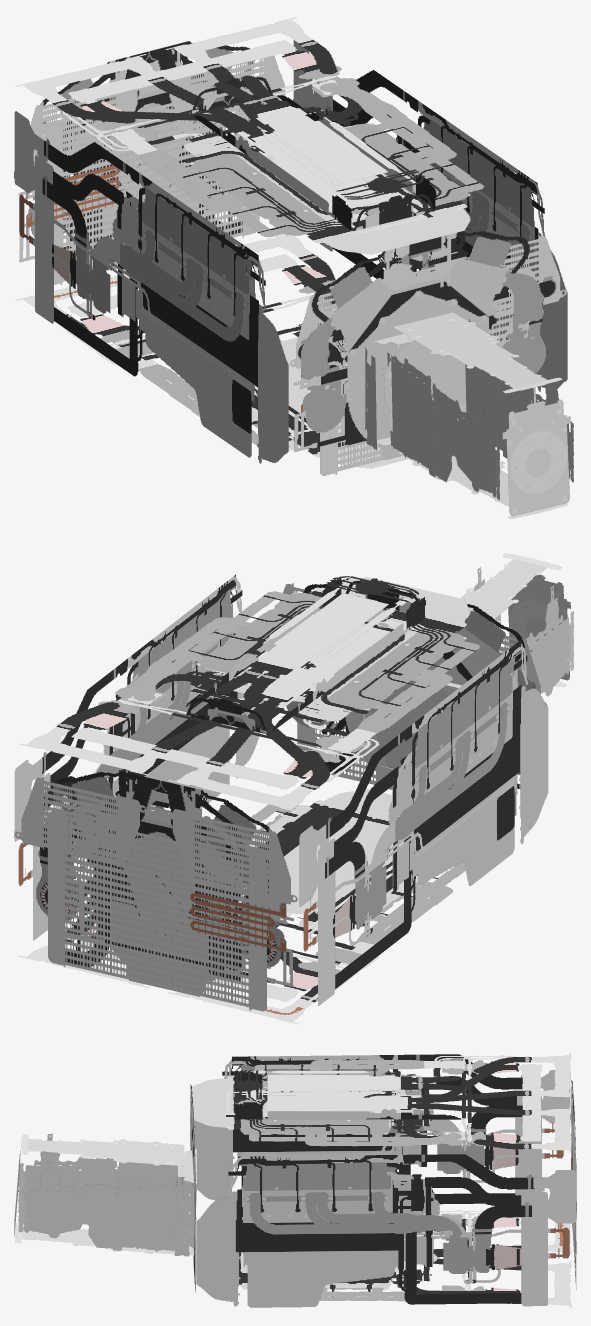
Rendered from v8-engine-1024.glb.
3 views of the same model, one above another, from view 1: azimuth 30°, elevation 25°; view 2: azimuth 150°, elevation 25°; view 3: azimuth 270°, elevation 25° (orthographic). The views are drawn at different scales.
Parts seen in each view (by area): view 1: box_impostor; view 2: box_impostor; view 3: box_impostor.
Boxes of the visible parts, bbox=[...] form: box_impostor: bbox=[14, 17, 573, 518]; box_impostor: bbox=[14, 553, 573, 1024]; box_impostor: bbox=[14, 1053, 576, 1307].
Bounding box in the file's own units: 0.8807 × 0.6905 × 2.01.
Materials: 1 (1 with a texture image).
